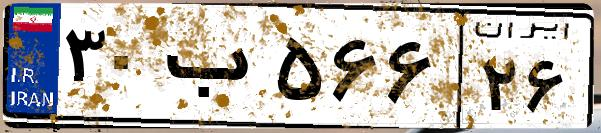0: (110, 28, 158, 98)
2: (475, 38, 525, 113)
3: (57, 26, 110, 100)
5: (270, 28, 330, 110)
6: (385, 28, 445, 110), (330, 28, 385, 110), (525, 38, 570, 115)
ب: (158, 20, 270, 120)
